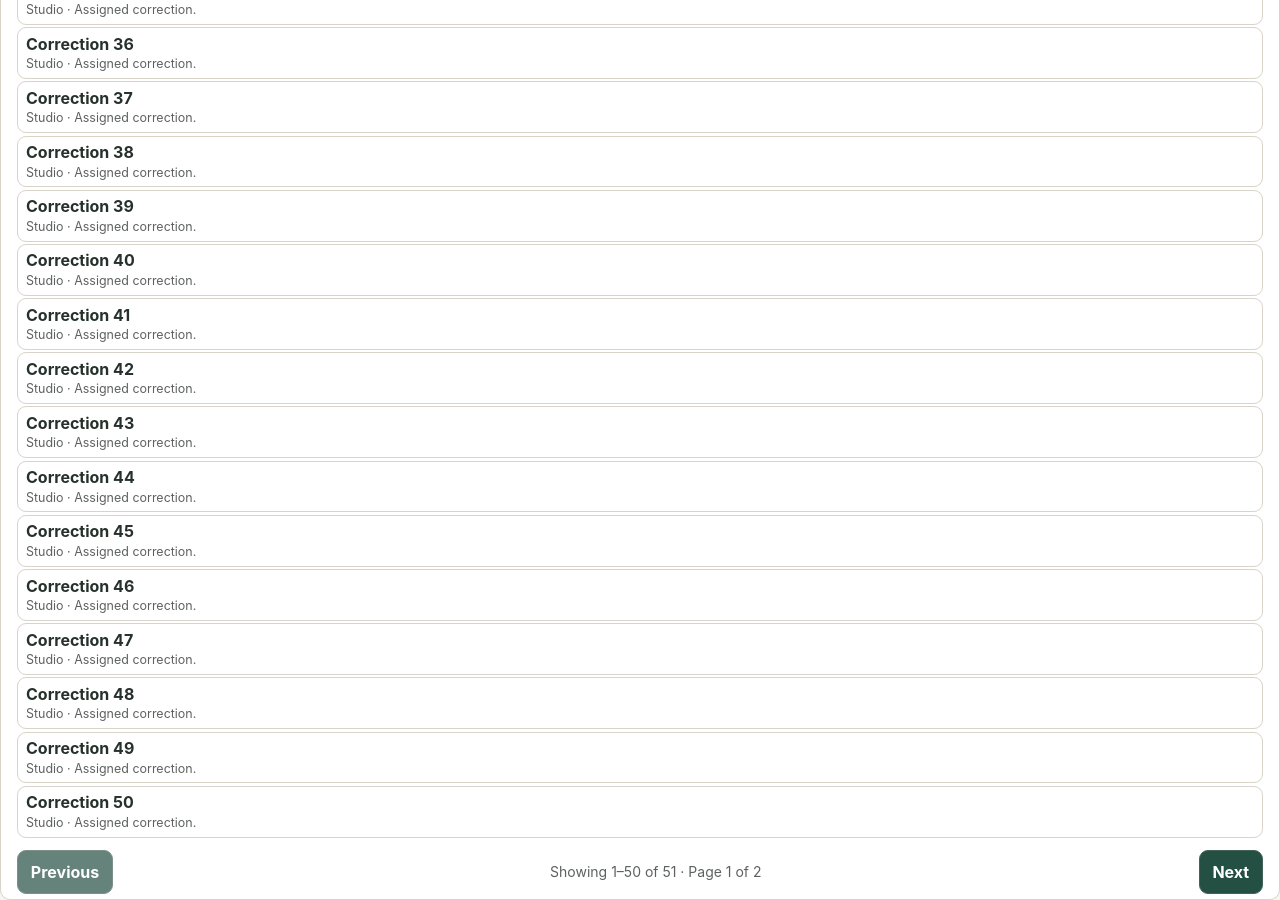
Scenario: MyWorkAttention › keeps positive sources visible, hides their independent confirmed zeros, and paginates exact totals
(page scrolled)
Expected: the text "Showing 1–50 of 51 · Page 1 of 2" is shown, [550,863,762,880]
Click the button "Next".
click(1231, 872)  # box [1199,850,1263,894]
(page scrolled)
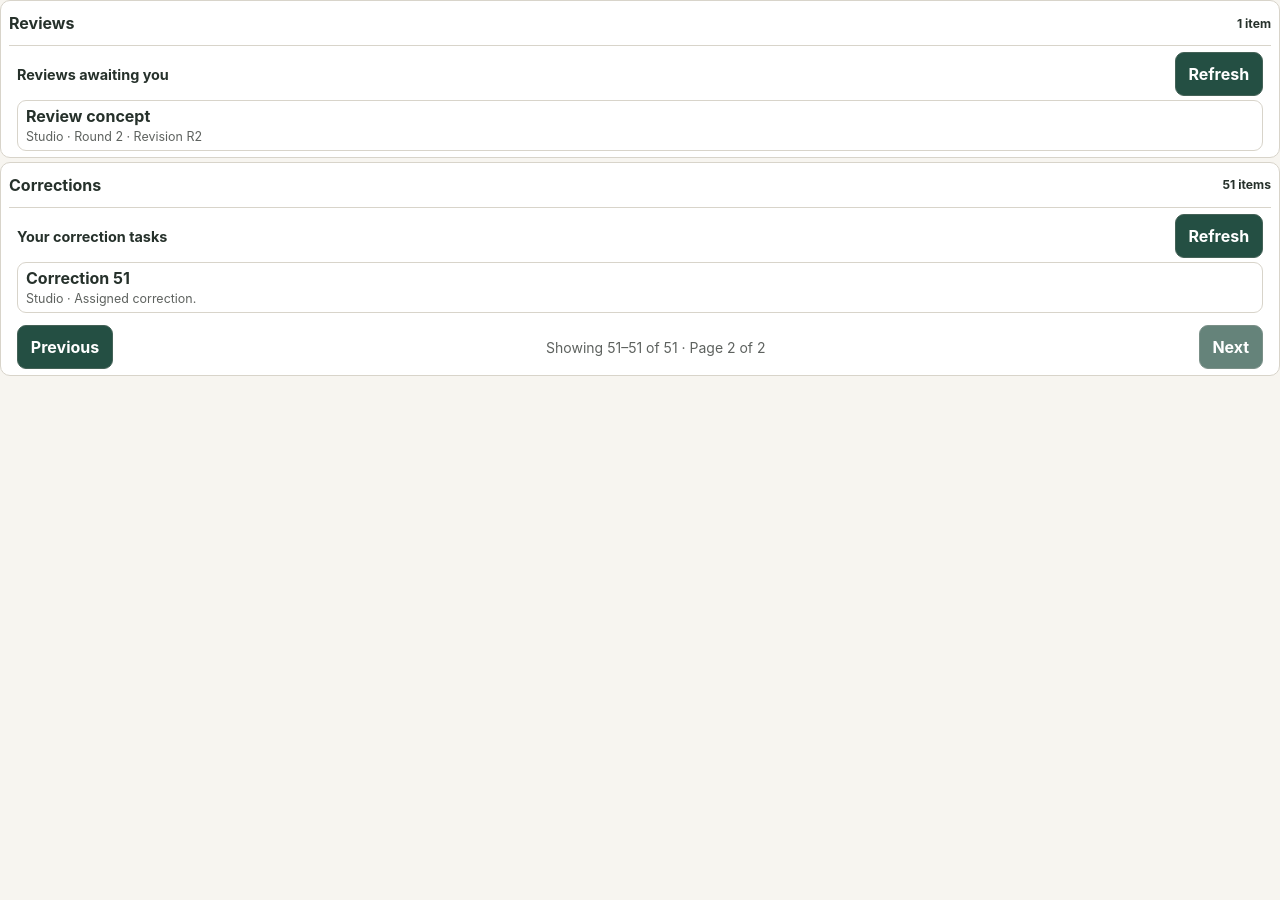
Expected: the text "Showing 51–51 of 51 · Page 2 of 2" is shown, [546,339,766,356]
